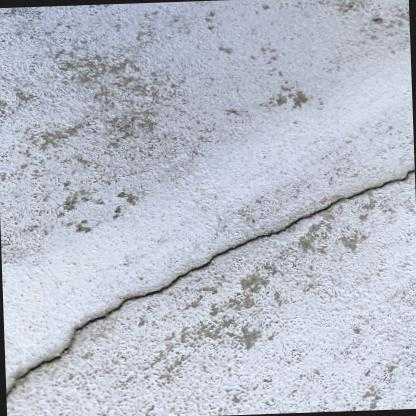crack: (7, 168, 415, 395)
